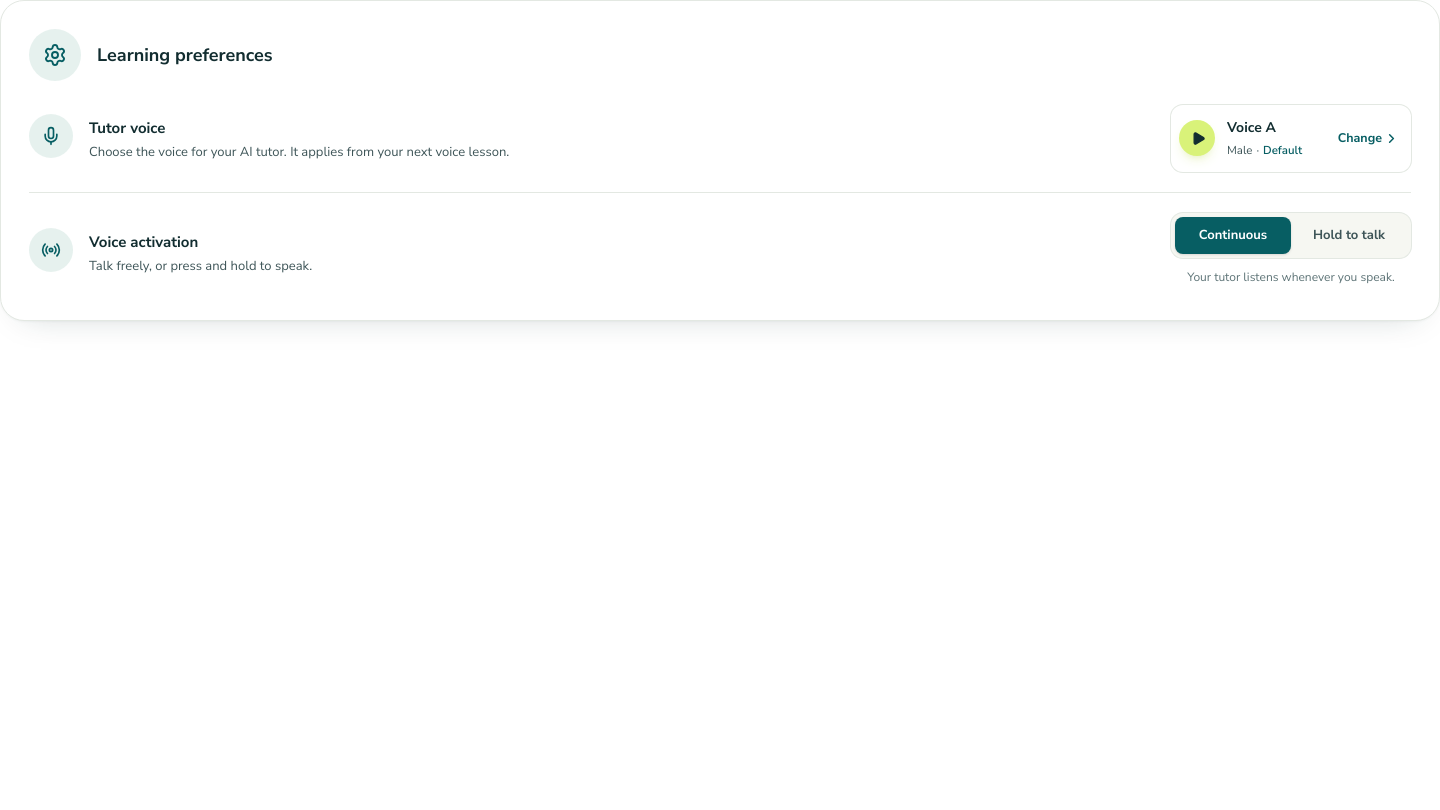
Learning preferences — tutor voice catalogue (the backend's app voices) › says so when a save fails, and keeps the previous voice
Click the button "Change voice". click: coordinates (1316, 138)
box: 1225,113 -> 1407,164
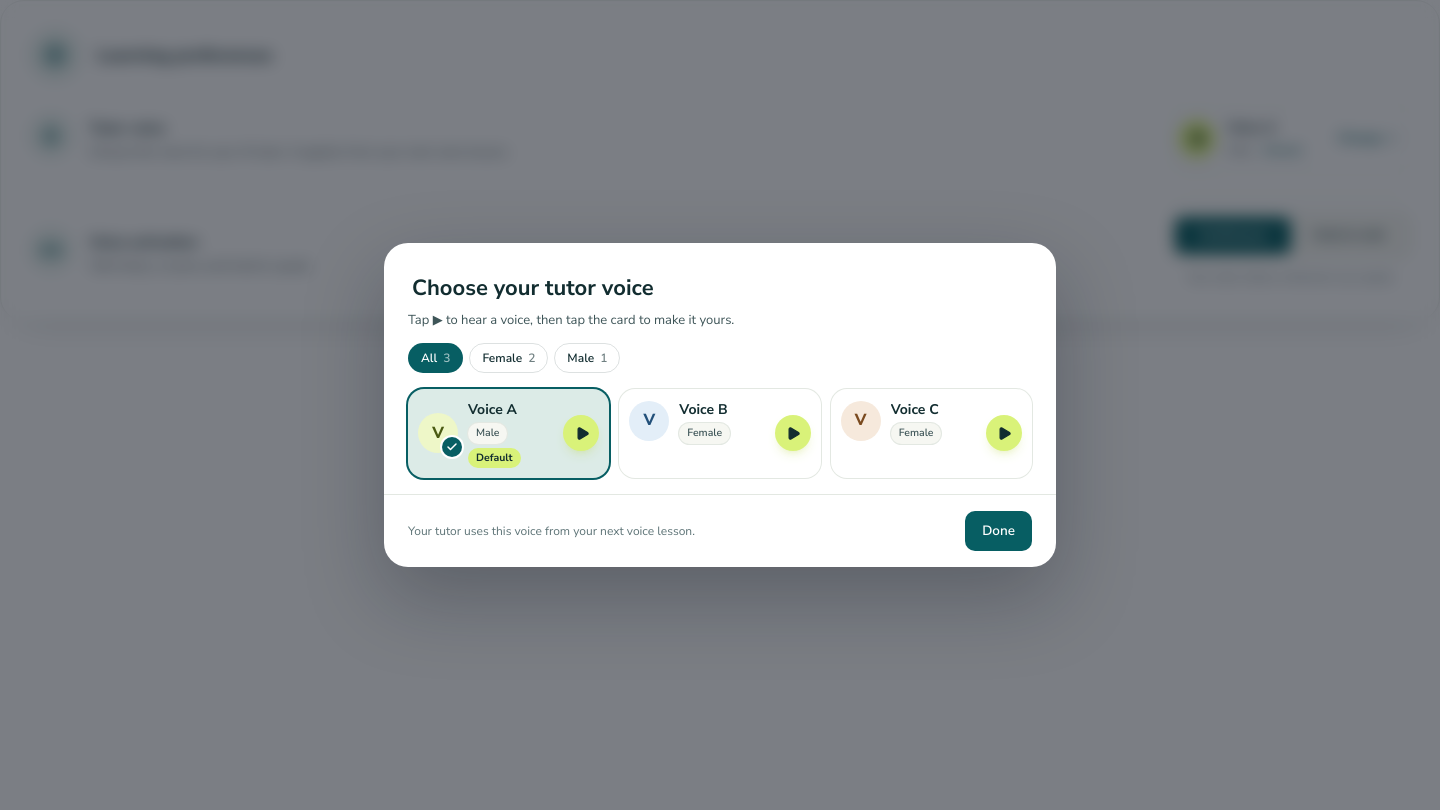
Click the radio button labelled "Voice B". click: coordinates (720, 421)
box: 619,388 -> 821,454
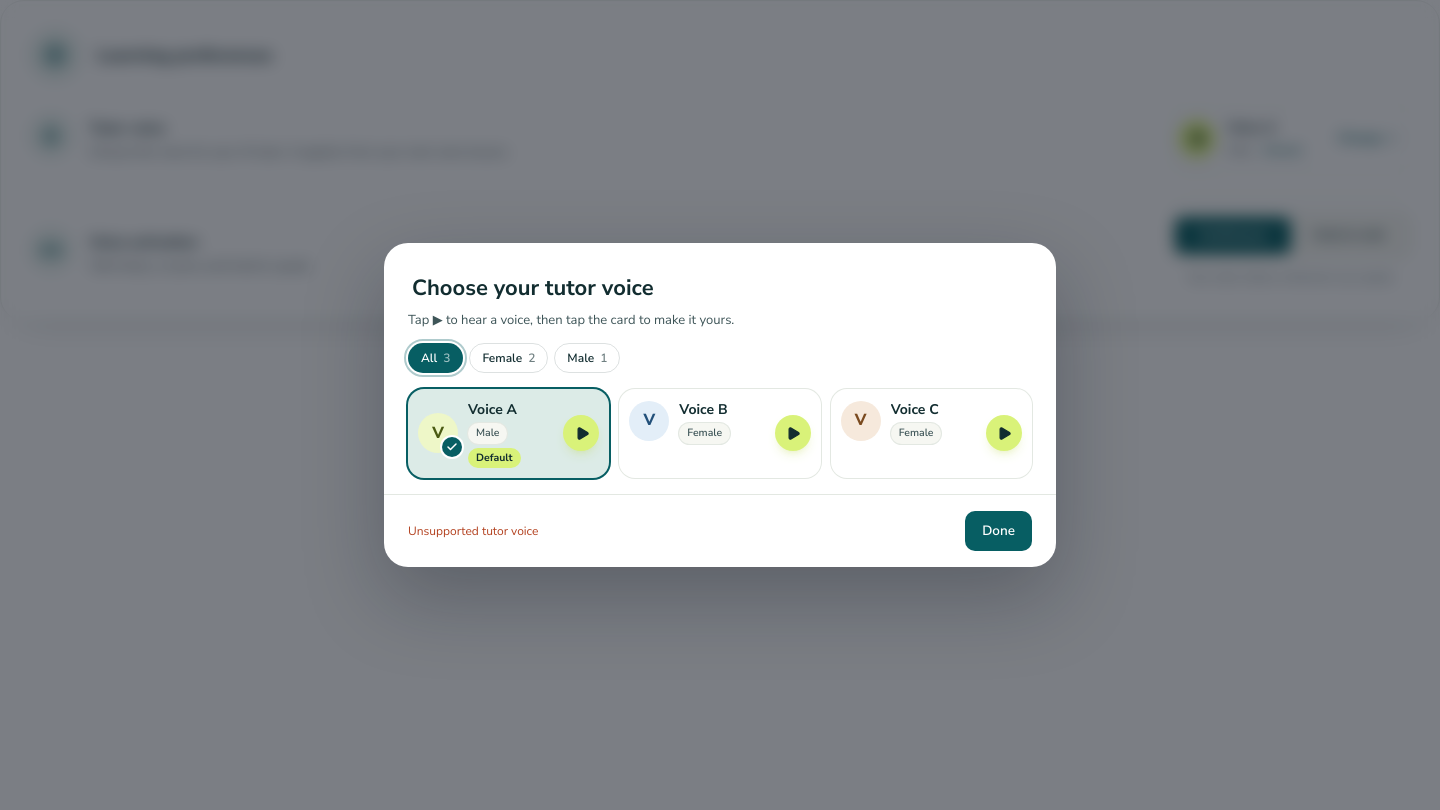
Now the text "Unsupported tutor voice" is shown, box 408,522 -> 538,541
